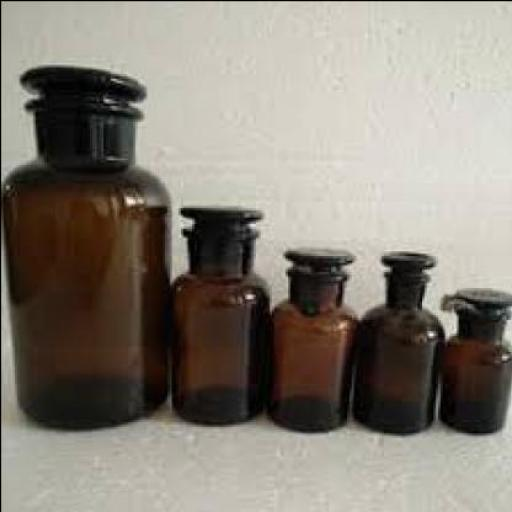glass: (1, 66, 166, 428), (168, 204, 266, 424), (355, 248, 439, 433), (271, 243, 354, 430), (437, 286, 509, 433)
